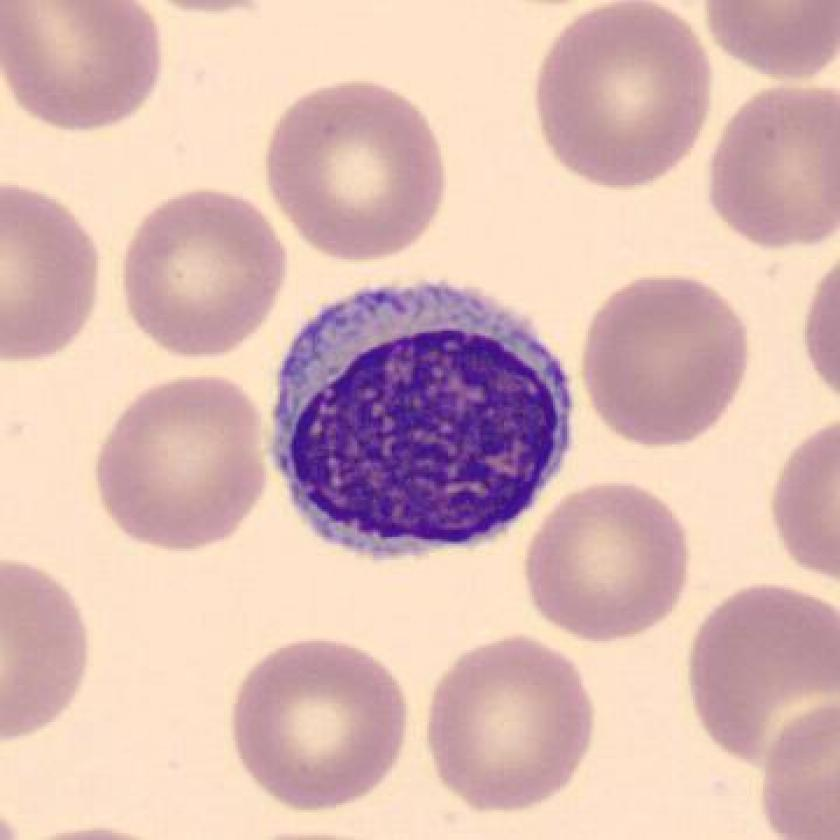lymphocyte: (258, 267, 589, 575)
